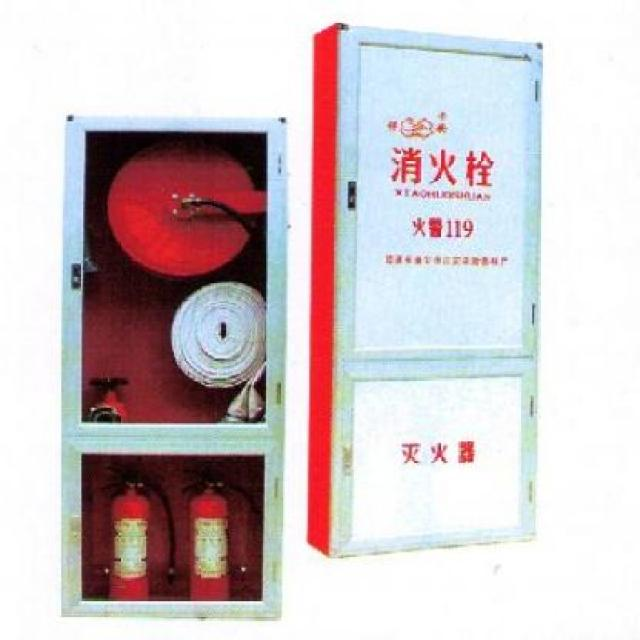firehydrant: (302, 17, 549, 563), (55, 111, 291, 627)
